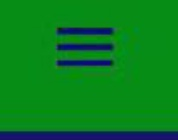ImgButton: (1, 1, 177, 139)
